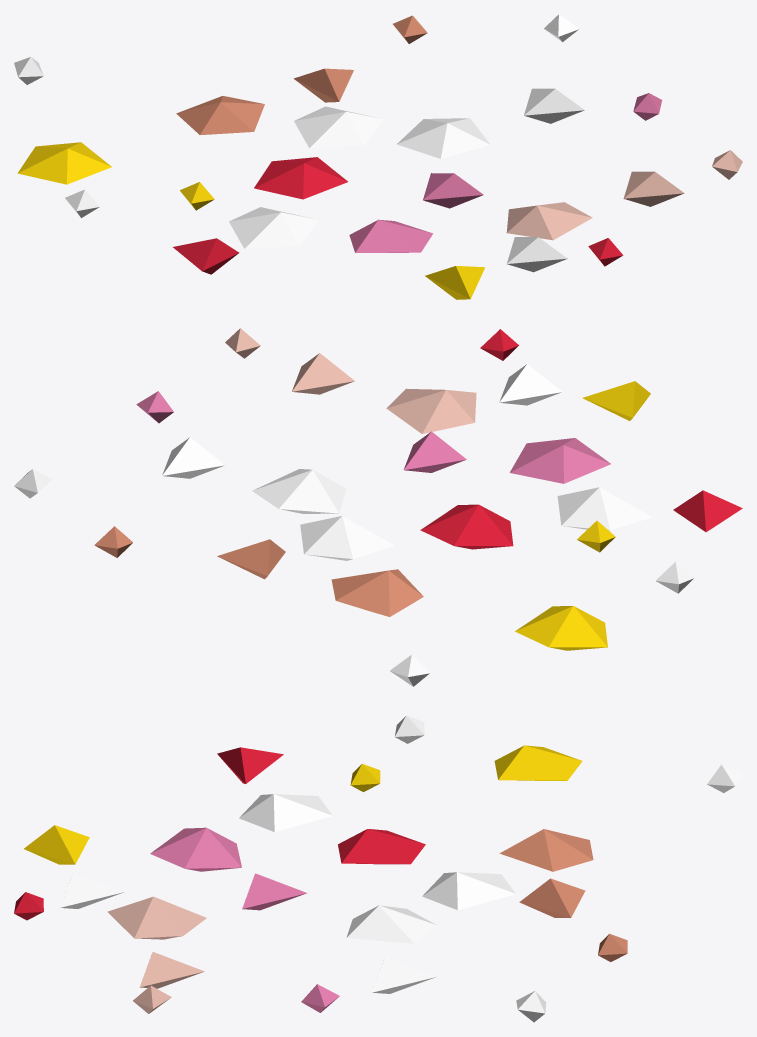
Rendered from ZLP_Flower_A_3.FBX.
The picture shows the model from 3 angles, top to bottom: view 1: azimuth 30°, elevation 25°; view 2: azimuth 150°, elevation 25°; view 3: azimuth 270°, elevation 25°; orthographic projection. The views are drawn at different scales.
Visible parts, largest first — view 1: ZLP_Flower_A_3; view 2: ZLP_Flower_A_3; view 3: ZLP_Flower_A_3.
Boxes of the visible parts, x1=… form: ZLP_Flower_A_3: x1=14, y1=14, x2=742, y2=299; ZLP_Flower_A_3: x1=14, y1=328, x2=742, y2=686; ZLP_Flower_A_3: x1=14, y1=715, x2=742, y2=1022.
Size of the model in its own units: 122 by 9.25 by 130.
